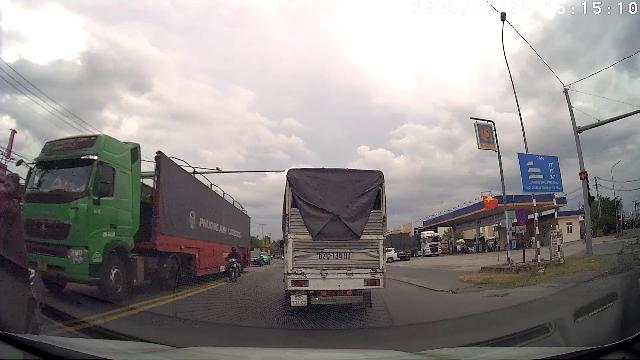130-cam-dung-va-do-xe: (516, 209, 528, 225)
